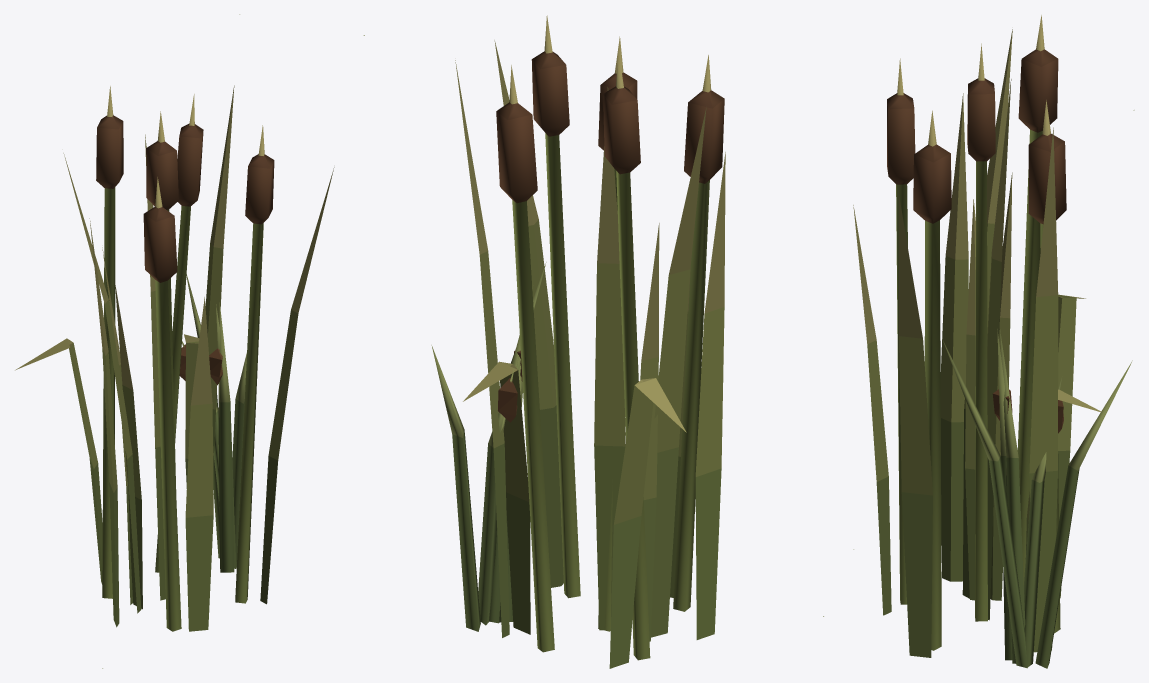
The model's file is ReedClump1_lite_leaf.glb.
The picture shows the model from 3 angles, left to right: view 1: azimuth 30°, elevation 25°; view 2: azimuth 150°, elevation 25°; view 3: azimuth 270°, elevation 25°; orthographic projection. The views are drawn at different scales.
Parts seen in each view (by area): view 1: ReedClump1_lite_leaf; view 2: ReedClump1_lite_leaf; view 3: ReedClump1_lite_leaf.
Part boxes in pixels (x1=…): ReedClump1_lite_leaf: x1=15, y1=14, x2=334, y2=668; ReedClump1_lite_leaf: x1=363, y1=15, x2=823, y2=668; ReedClump1_lite_leaf: x1=853, y1=15, x2=1134, y2=668.
Bounding box in the file's own units: 3.94 × 7.34 × 3.2.
